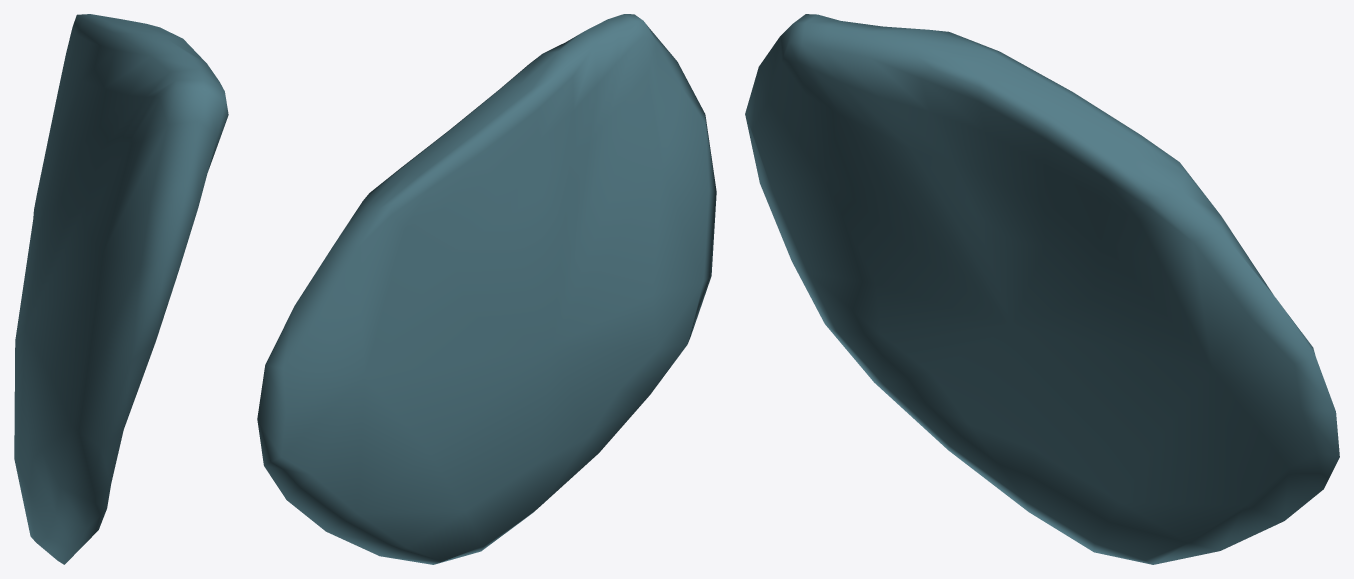
File: Obliquus_inferior_capitis_axis_right.glb
The picture shows the model from 3 angles, left to right: view 1: azimuth 30°, elevation 25°; view 2: azimuth 150°, elevation 25°; view 3: azimuth 270°, elevation 25°; orthographic projection. The views are drawn at different scales.
Parts seen in each view (by area): view 1: Obliquus_inferior_capitis_muscle_on_axis.r_Generated_Mesh_Fr; view 2: Obliquus_inferior_capitis_muscle_on_axis.r_Generated_Mesh_Fr; view 3: Obliquus_inferior_capitis_muscle_on_axis.r_Generated_Mesh_Fr.
Boxes of the visible parts, x1,y1,x2,y2 form: Obliquus_inferior_capitis_muscle_on_axis.r_Generated_Mesh_Fr: (14, 14, 228, 564); Obliquus_inferior_capitis_muscle_on_axis.r_Generated_Mesh_Fr: (257, 14, 716, 564); Obliquus_inferior_capitis_muscle_on_axis.r_Generated_Mesh_Fr: (745, 14, 1339, 564).
Bounding box in the file's own units: 0.00229 × 0.0043 × 0.00446.
